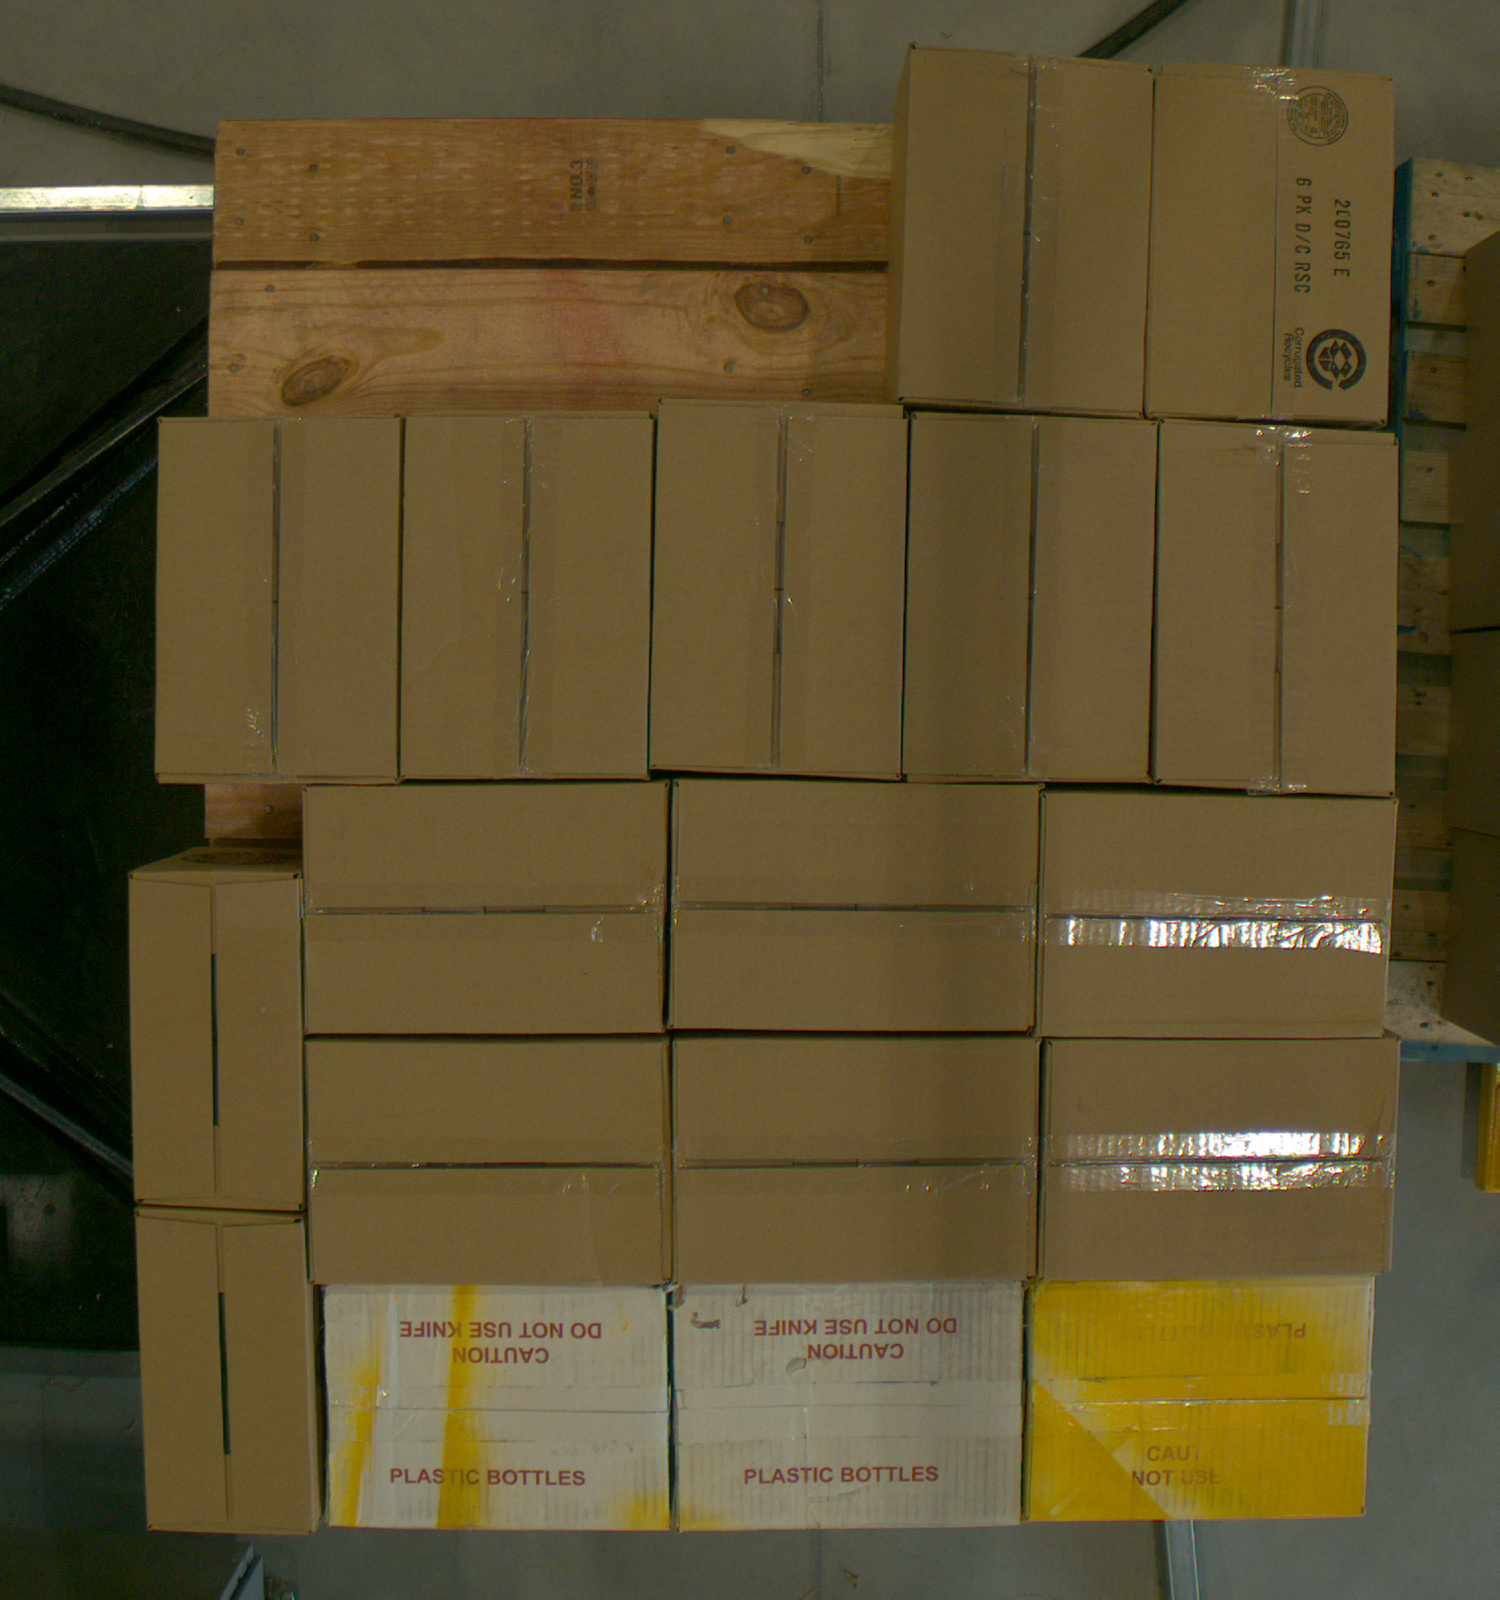box top: (654, 403, 906, 775), (905, 414, 1157, 782), (671, 782, 1038, 1030), (362, 727, 609, 1093), (405, 413, 650, 780), (156, 417, 400, 782), (1036, 794, 1398, 1038), (677, 1042, 1036, 1283), (369, 983, 609, 1343), (1040, 1040, 1401, 1280), (905, 55, 1148, 410), (1162, 427, 1398, 791), (726, 1231, 971, 1582), (1152, 69, 1391, 421), (376, 1236, 617, 1579), (1081, 1231, 1320, 1570), (137, 1210, 314, 1534), (131, 874, 302, 1211)
